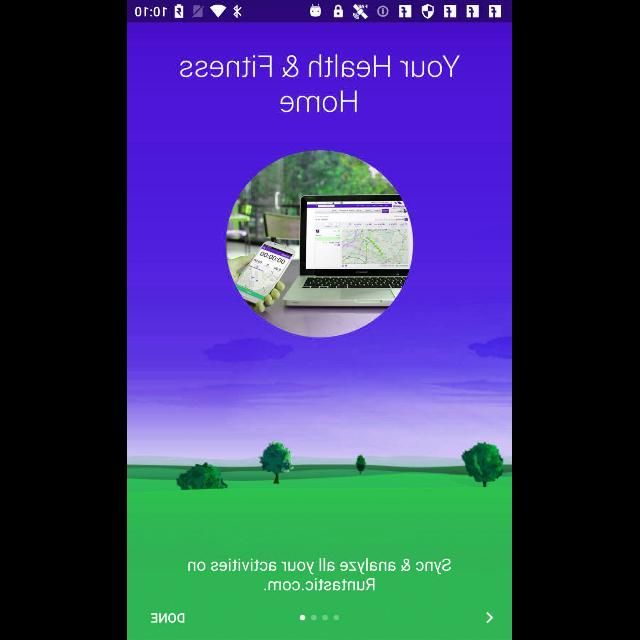backgroundimage: (128, 23, 512, 639)
icon: (486, 611, 494, 623)
image: (226, 150, 414, 338)
pageindicator: (300, 614, 340, 622)
text: (180, 54, 460, 112), (188, 558, 454, 592), (152, 613, 186, 623)
uppertaskbar: (128, 1, 512, 23)
